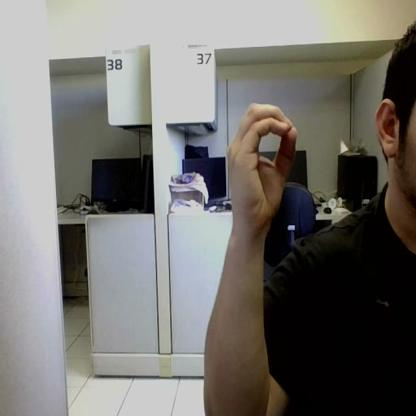O: (229, 101, 298, 226)
